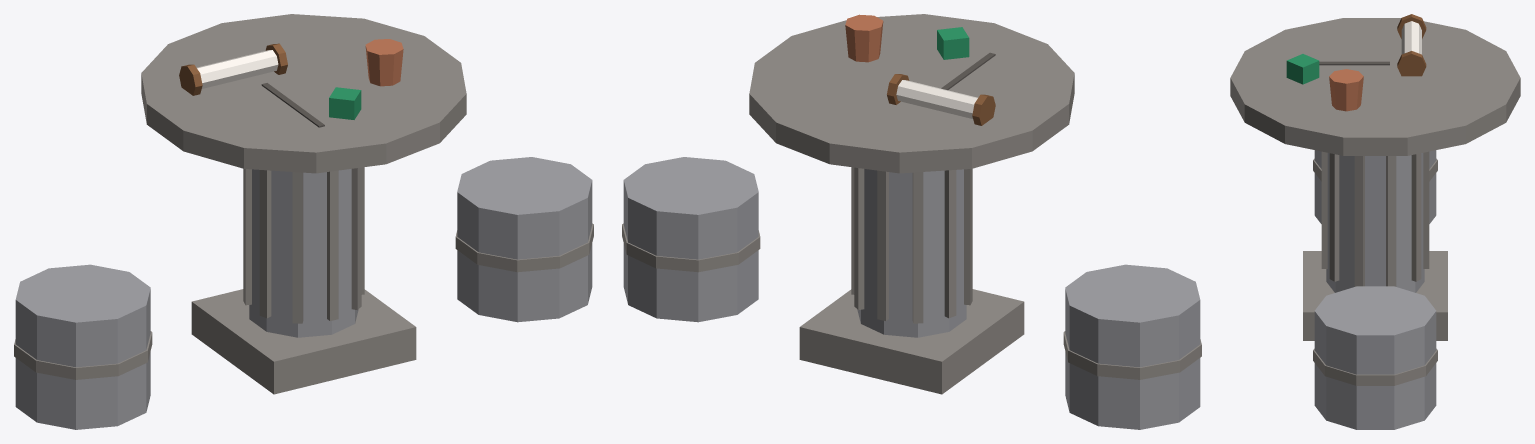
The model's file is CatCafe_Decor_PillarTable.glb.
3 views of the same model, side by side, from view 1: azimuth 30°, elevation 25°; view 2: azimuth 150°, elevation 25°; view 3: azimuth 270°, elevation 25° (orthographic). The views are drawn at different scales.
Visible parts, largest first — view 1: CatCafe_Decor_PillarTable; view 2: CatCafe_Decor_PillarTable; view 3: CatCafe_Decor_PillarTable.
Part boxes in pixels (x1,y1,x2,y2): CatCafe_Decor_PillarTable: (14,14,593,429); CatCafe_Decor_PillarTable: (622,14,1201,429); CatCafe_Decor_PillarTable: (1230,14,1520,429).
Bounding box in the file's own units: 3.92 × 1.99 × 2.
Materials: 1 (1 with a texture image).
